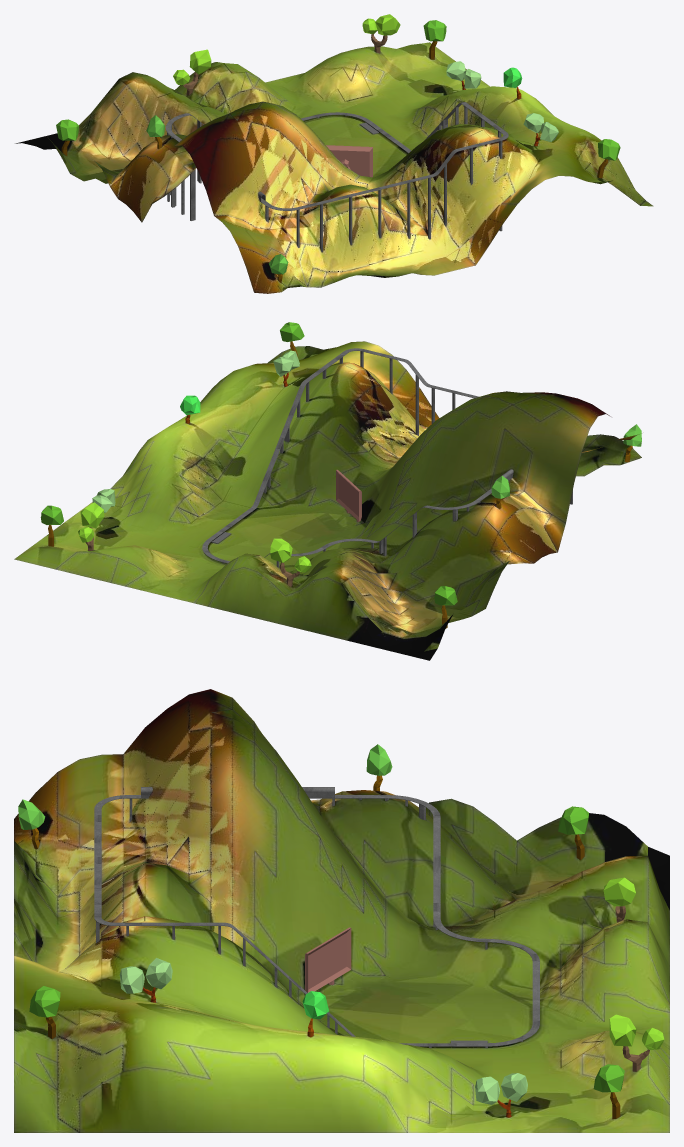
Rendered from emvironment.gltf.
The picture shows the model from 3 angles, top to bottom: view 1: azimuth 30°, elevation 25°; view 2: azimuth 150°, elevation 25°; view 3: azimuth 270°, elevation 25°; orthographic projection. The views are drawn at different scales.
Parts seen in each view (by area): view 1: BaseTerrain001, terrain001, BigScreen, GeoSphere010, GeoSphere008; view 2: BaseTerrain001, terrain001, BigScreen; view 3: BaseTerrain001, terrain001, BigScreen, GeoSphere002 (×2), GeoSphere005, GeoSphere008, GeoSphere010.
Part boxes in pixels (x1,y1,x2,y2): BaseTerrain001: [15, 42, 653, 293]; terrain001: [165, 102, 508, 252]; BigScreen: [326, 145, 372, 177]; GeoSphere010: [423, 20, 446, 41]; GeoSphere008: [189, 49, 211, 74]; BaseTerrain001: [14, 341, 641, 660]; terrain001: [202, 348, 513, 567]; BigScreen: [336, 469, 361, 522]; BaseTerrain001: [14, 689, 669, 1132]; terrain001: [94, 787, 539, 1047]; BigScreen: [305, 927, 351, 992]; GeoSphere002 (×2): [558, 806, 636, 1046]; GeoSphere005: [29, 986, 60, 1017]; GeoSphere008: [603, 877, 635, 906]; GeoSphere010: [593, 1064, 624, 1092].
Size of the model in its own units: 19685 by 6127 by 19685.
13 materials, 2 textured.
